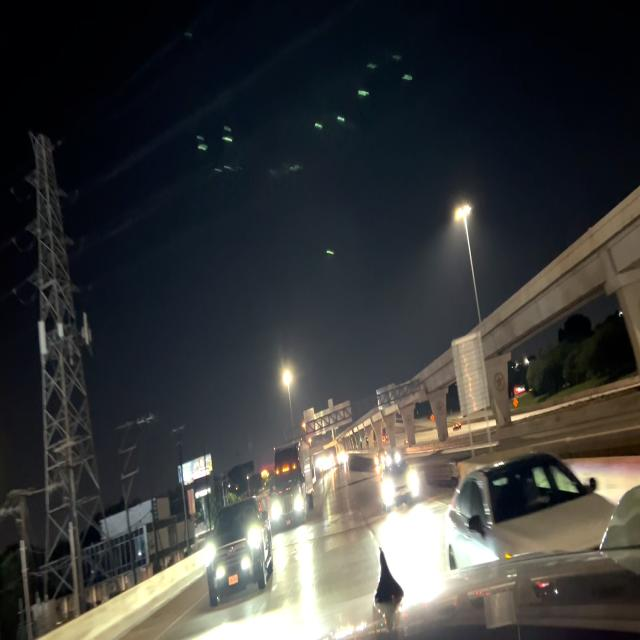back-of-sign: (448, 331, 491, 419), (299, 399, 354, 440), (376, 380, 404, 410)
